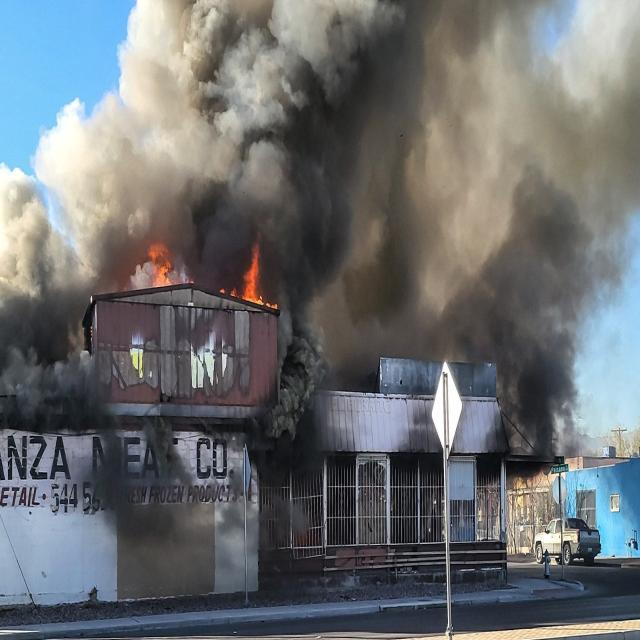Fire: (242, 244, 262, 306), (148, 244, 173, 288), (266, 300, 278, 309), (186, 277, 196, 285), (230, 288, 237, 299), (220, 286, 226, 294)
Smoke: (42, 0, 434, 294), (432, 0, 640, 297), (486, 164, 604, 464), (0, 163, 91, 432), (332, 296, 486, 394), (91, 413, 195, 550), (268, 297, 332, 438), (118, 509, 214, 597), (218, 494, 310, 550)
